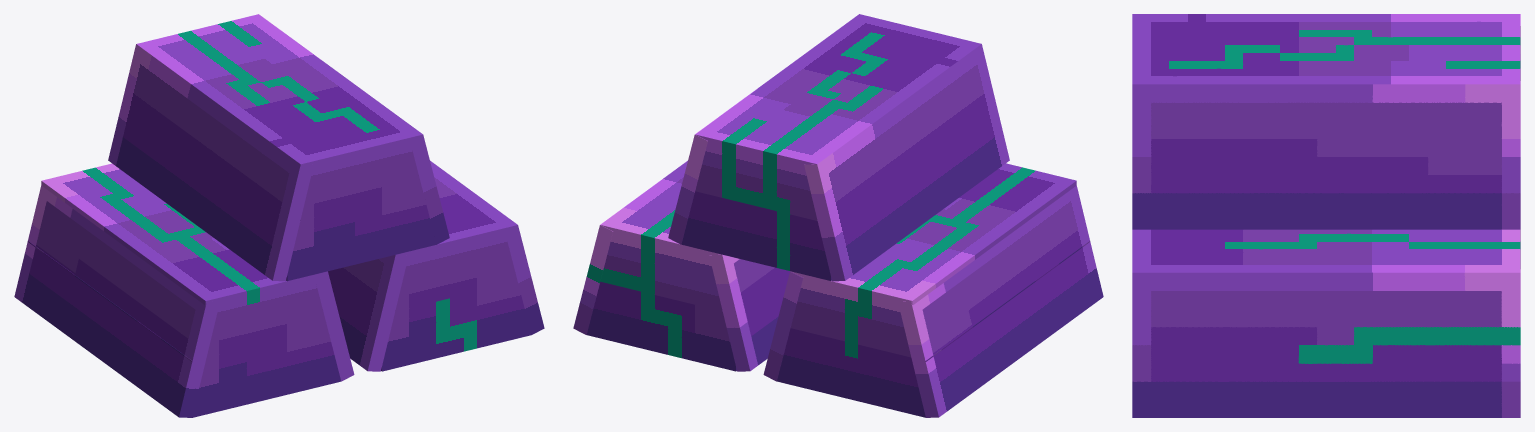
File: icon_chargedironingot.gltf
3 views of the same model, side by side, from view 1: azimuth 30°, elevation 25°; view 2: azimuth 150°, elevation 25°; view 3: azimuth 270°, elevation 25° (orthographic). The views are drawn at different scales.
Visible parts, largest first — view 1: iron0-Local, iront1-Local, Y1-Local, L1$$(2)-Local, iron3-Local, Y1$$(1)-Local, L1$$(1)-Local, L1-Local, L1$$(3)-Local, R2$$(3)-Local, R2$$(2)-Local, Y2$$(1)-Local; view 2: iron0-Local, iront1-Local, L1$$(1)-Local, Y1-Local, iron3-Local, L1-Local, Y1$$(1)-Local, L1$$(3)-Local, R2$$(1)-Local, R2-Local, Y2-Local; view 3: R2$$(1)-Local, R2-Local, iron0-Local, R2$$(2)-Local, R2$$(3)-Local, iron3-Local.
Boxes of the visible parts, x1=… form: iron0-Local: x1=137, y1=14, x2=436, y2=281; iront1-Local: x1=27, y1=163, x2=341, y2=417; Y1-Local: x1=14, y1=185, x2=205, y2=416; L1$$(2)-Local: x1=108, y1=80, x2=313, y2=281; iron3-Local: x1=381, y1=161, x2=531, y2=371; Y1$$(1)-Local: x1=15, y1=186, x2=219, y2=417; L1$$(1)-Local: x1=108, y1=44, x2=299, y2=278; L1-Local: x1=328, y1=255, x2=395, y2=370; L1$$(3)-Local: x1=345, y1=254, x2=408, y2=371; R2$$(3)-Local: x1=433, y1=163, x2=544, y2=334; R2$$(2)-Local: x1=261, y1=16, x2=449, y2=244; Y2$$(1)-Local: x1=315, y1=271, x2=354, y2=381; iron0-Local: x1=681, y1=14, x2=981, y2=280; iront1-Local: x1=777, y1=163, x2=1090, y2=417; L1$$(1)-Local: x1=804, y1=44, x2=1009, y2=281; Y1-Local: x1=898, y1=186, x2=1103, y2=417; iron3-Local: x1=586, y1=161, x2=736, y2=371; L1-Local: x1=709, y1=254, x2=789, y2=371; Y1$$(1)-Local: x1=912, y1=187, x2=1103, y2=413; L1$$(3)-Local: x1=722, y1=254, x2=787, y2=370; R2$$(1)-Local: x1=668, y1=14, x2=859, y2=244; R2-Local: x1=573, y1=160, x2=687, y2=334; Y2-Local: x1=763, y1=271, x2=803, y2=381; R2$$(1)-Local: x1=1132, y1=81, x2=1520, y2=229; R2-Local: x1=1132, y1=269, x2=1520, y2=417; iron0-Local: x1=1132, y1=14, x2=1520, y2=84; R2$$(2)-Local: x1=1132, y1=84, x2=1520, y2=229; R2$$(3)-Local: x1=1132, y1=272, x2=1520, y2=417; iron3-Local: x1=1132, y1=229, x2=1520, y2=272.
Size of the model in its own units: 26.96 by 16 by 21.02.
Materials: 15 (15 with a texture image).
